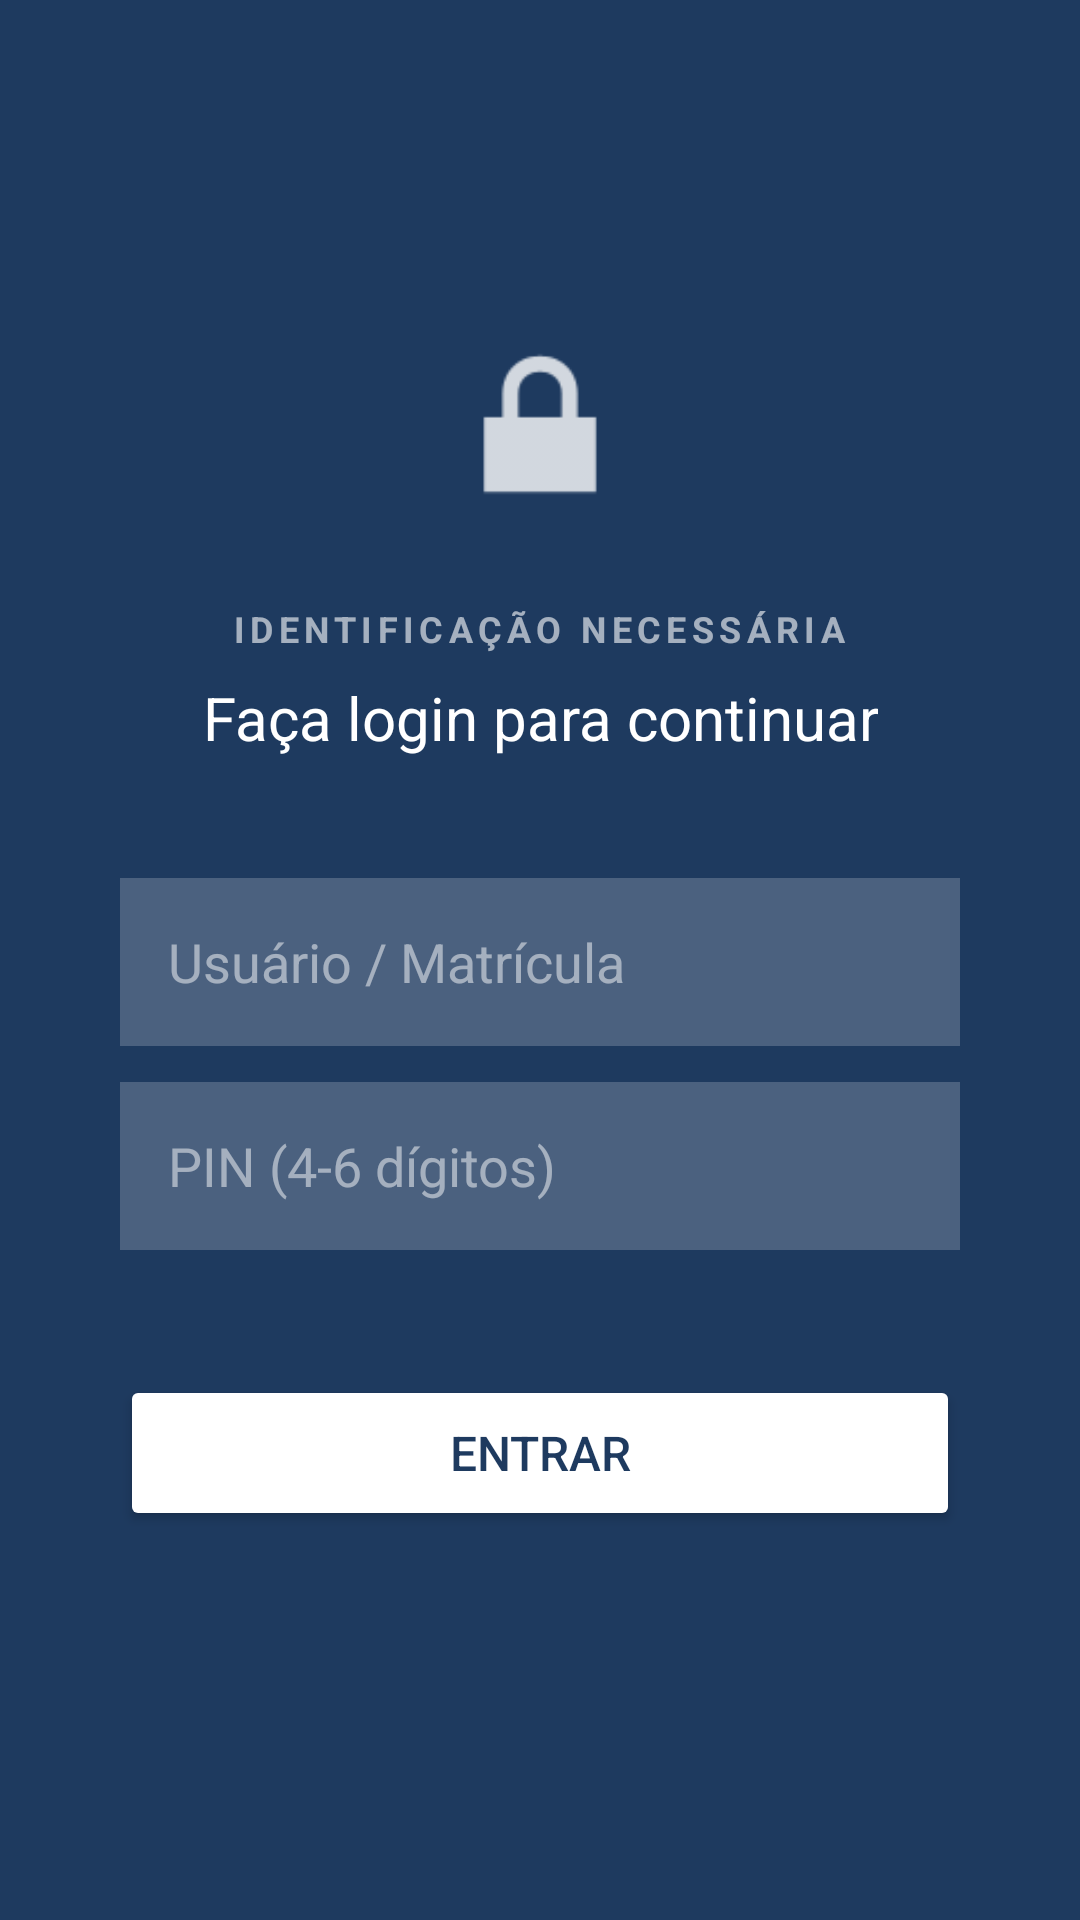

Locate icon controls on the screen. Image size 1080x1920, boxes as (x1, y1, x2, y2).
lock: (483, 355, 597, 493)
